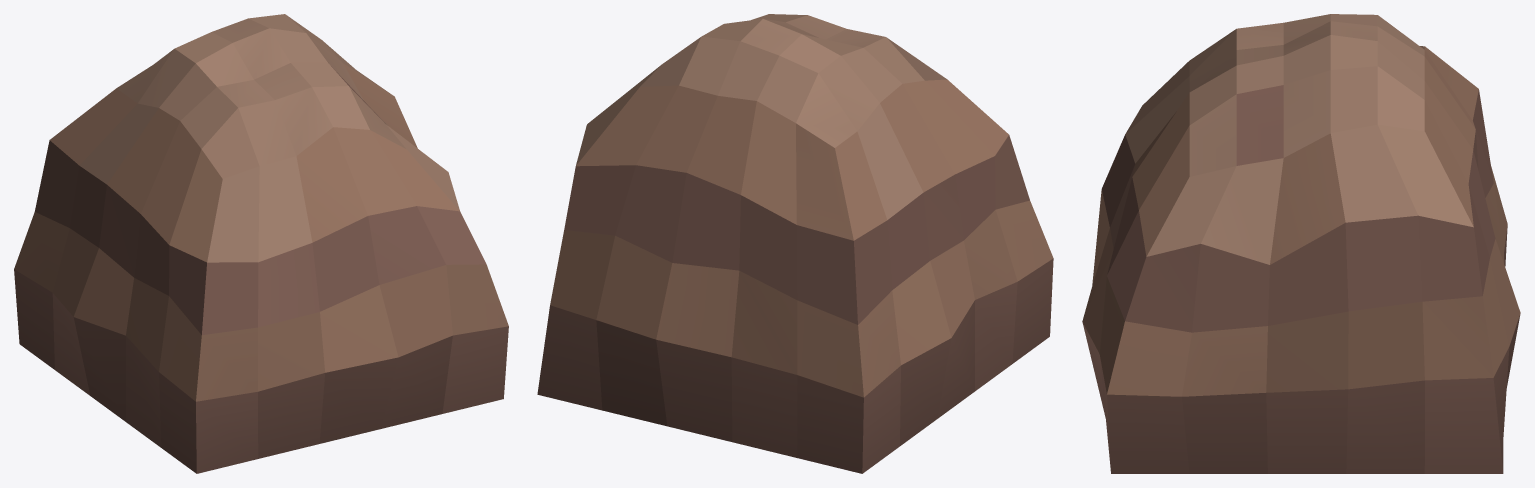
The model's file is roca_suelta.glb.
3 views of the same model, side by side, from view 1: azimuth 30°, elevation 25°; view 2: azimuth 150°, elevation 25°; view 3: azimuth 270°, elevation 25° (orthographic). The views are drawn at different scales.
Visible parts, largest first — view 1: propforge-cuartos-roca_suelta; view 2: propforge-cuartos-roca_suelta; view 3: propforge-cuartos-roca_suelta.
Boxes of the visible parts, x1,y1,x2,y2 form: propforge-cuartos-roca_suelta: (14, 14, 508, 473); propforge-cuartos-roca_suelta: (537, 14, 1053, 473); propforge-cuartos-roca_suelta: (1082, 14, 1520, 473).
Bounding box in the file's own units: 0.865 × 0.8243 × 0.8942.
